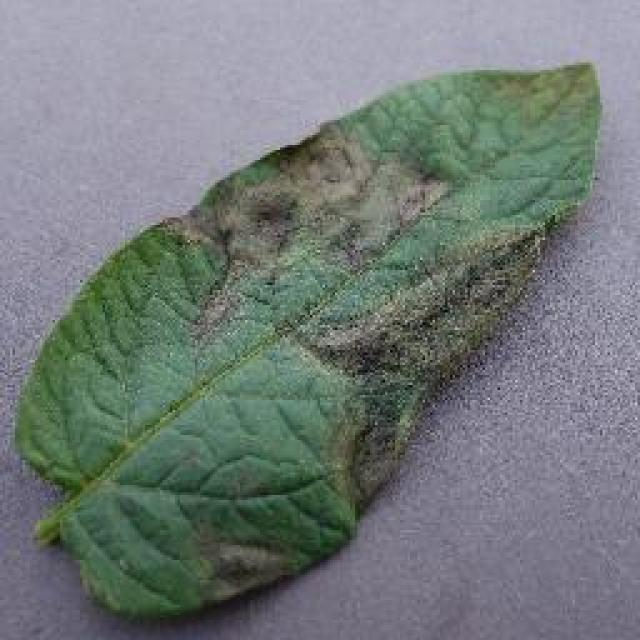late_blight: (10, 55, 608, 623)
